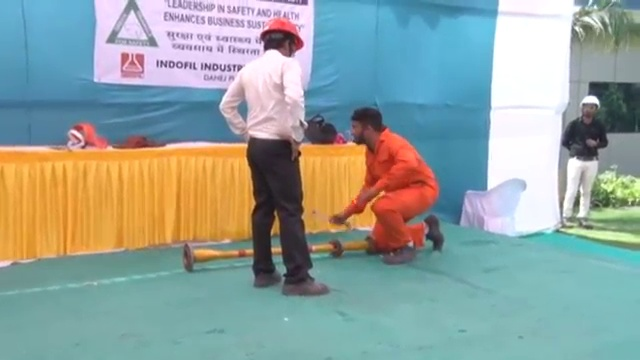helmet: (257, 18, 304, 50), (580, 94, 602, 112)
helmet_off: (350, 108, 385, 150)
helmet_on: (257, 18, 305, 60), (580, 93, 601, 125)
person: (218, 18, 331, 294), (329, 109, 444, 268), (562, 94, 609, 229)
